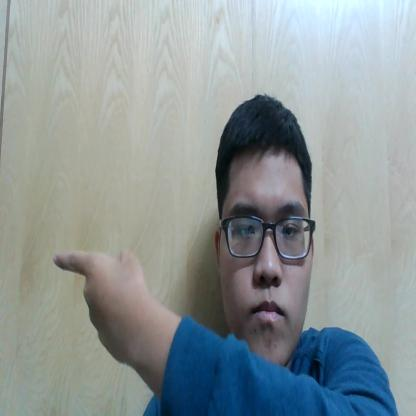right: (41, 232, 155, 387)
